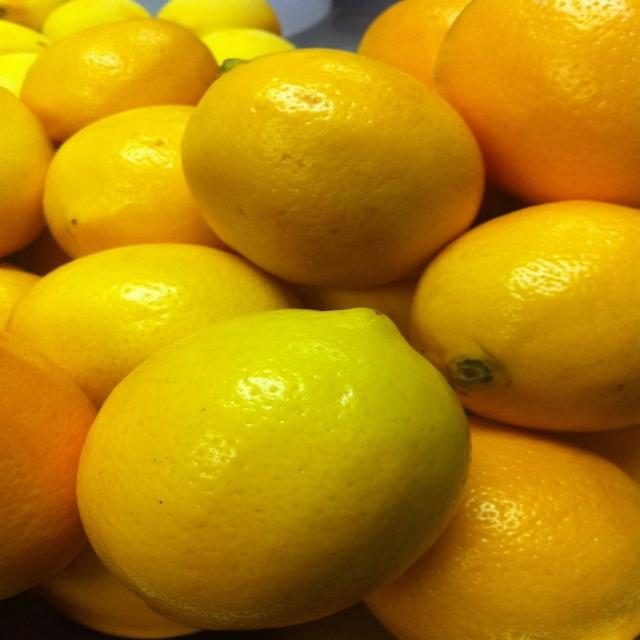lemon: (70, 315, 453, 629), (182, 49, 449, 278), (440, 199, 640, 433), (458, 449, 640, 640), (463, 0, 640, 195), (39, 103, 192, 258)
